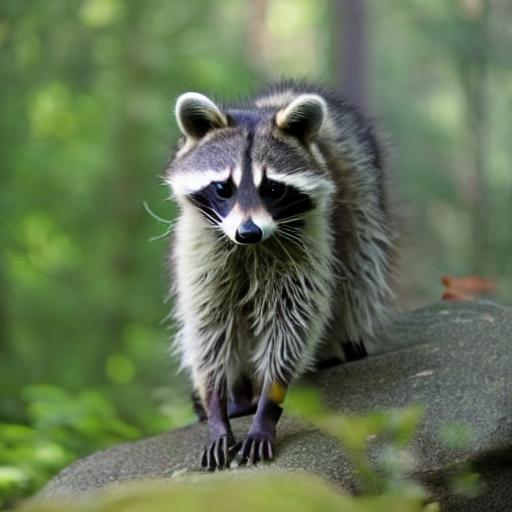raccoon: (145, 76, 402, 389)
